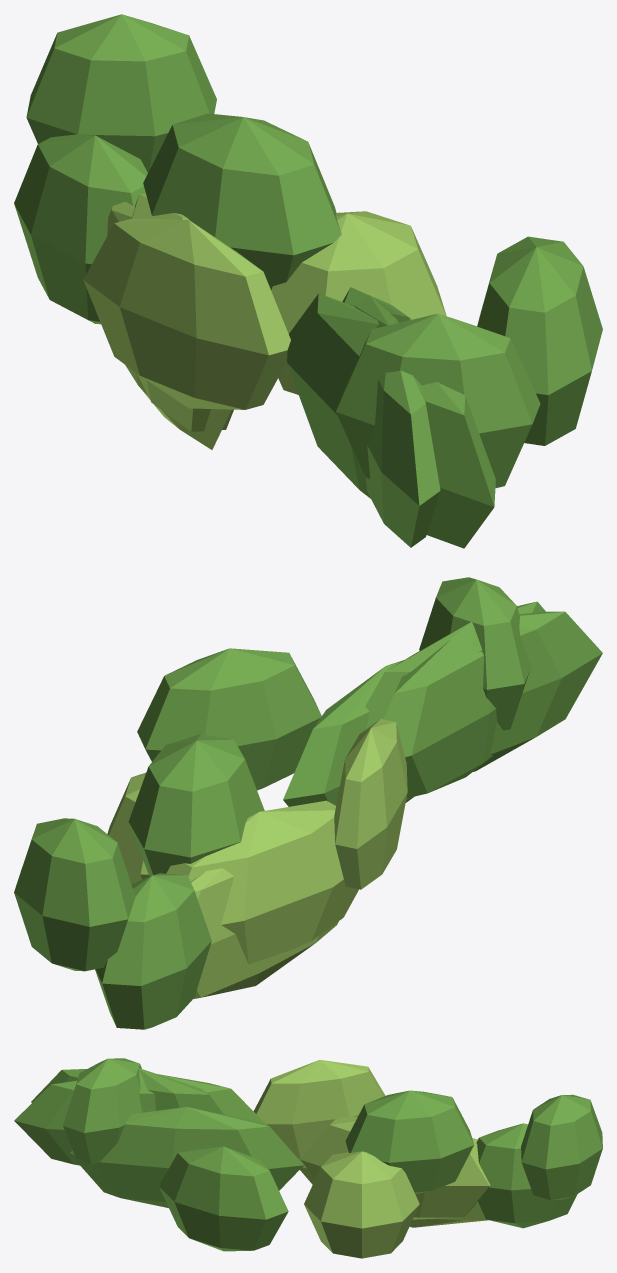
The model's file is SM_Leaf_Litter.fbx.
3 renders of one model, top to bottom at view 1: azimuth 30°, elevation 25°; view 2: azimuth 150°, elevation 25°; view 3: azimuth 270°, elevation 25°, orthographic. The views are drawn at different scales.
Visible parts, largest first — view 1: SM_Leaf_Litter; view 2: SM_Leaf_Litter; view 3: SM_Leaf_Litter.
Part boxes in pixels (x1,y1,x2,y2): SM_Leaf_Litter: [14, 14, 602, 548]; SM_Leaf_Litter: [14, 577, 602, 1029]; SM_Leaf_Litter: [14, 1058, 602, 1258].
Bounding box in the file's own units: 4.25 × 3.22 × 10.16.
